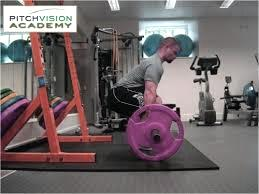Barbell: (154, 135, 161, 143)
